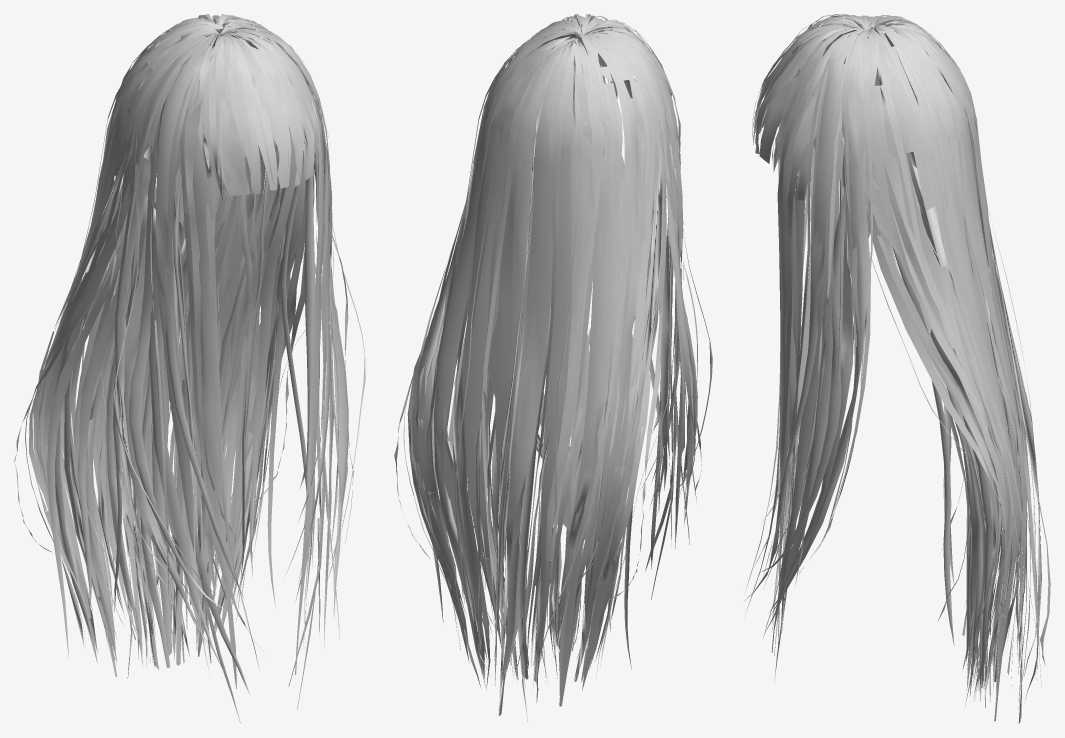
Rendered from hair-0.glb.
3 renders of one model, left to right at view 1: azimuth 30°, elevation 25°; view 2: azimuth 150°, elevation 25°; view 3: azimuth 270°, elevation 25°, orthographic. The views are drawn at different scales.
Bounding box in the file's own units: 0.3877 × 0.9507 × 0.3833.
Materials: 1 (1 with a texture image).
